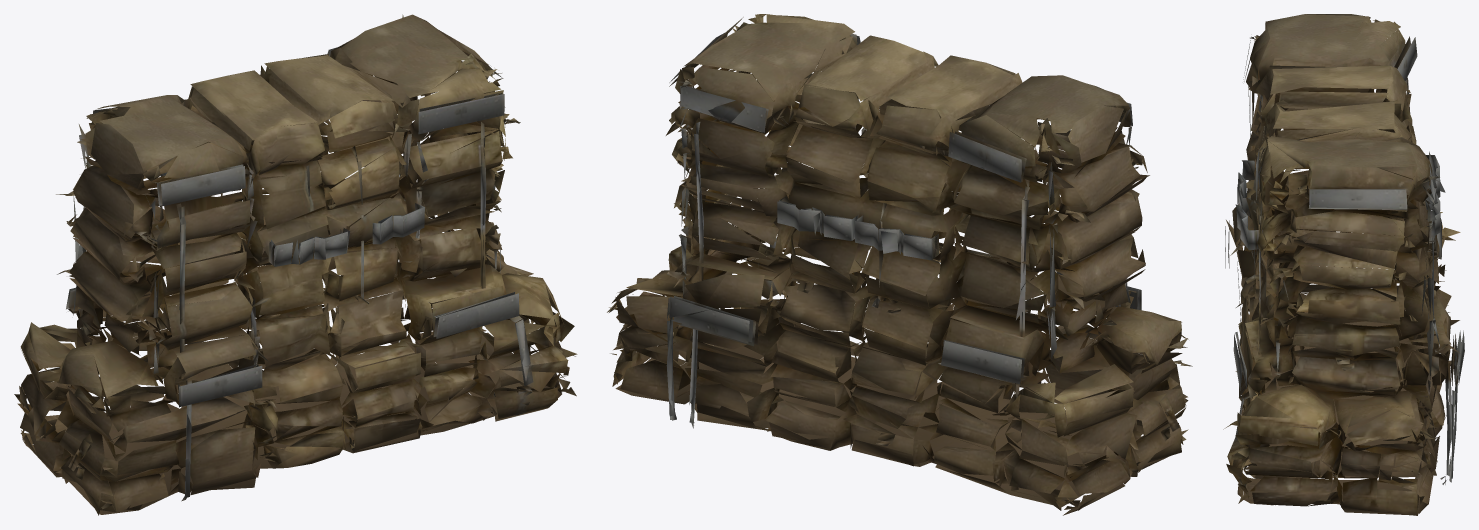
File: ch5_meridian_cover_barricade_LOD2.glb
The picture shows the model from 3 angles, left to right: view 1: azimuth 30°, elevation 25°; view 2: azimuth 150°, elevation 25°; view 3: azimuth 270°, elevation 25°; orthographic projection. The views are drawn at different scales.
Parts seen in each view (by area): view 1: tripo_node_fae5ff56-c19d-4cb0-980b-bed445a09fcc; view 2: tripo_node_fae5ff56-c19d-4cb0-980b-bed445a09fcc; view 3: tripo_node_fae5ff56-c19d-4cb0-980b-bed445a09fcc.
Boxes of the visible parts, x1=… form: tripo_node_fae5ff56-c19d-4cb0-980b-bed445a09fcc: x1=14, y1=14, x2=577, y2=515; tripo_node_fae5ff56-c19d-4cb0-980b-bed445a09fcc: x1=607, y1=14, x2=1192, y2=515; tripo_node_fae5ff56-c19d-4cb0-980b-bed445a09fcc: x1=1223, y1=14, x2=1464, y2=515.
Bounding box in the file's own units: 1.01 × 0.6824 × 0.4588.
1 material, 1 textured.
